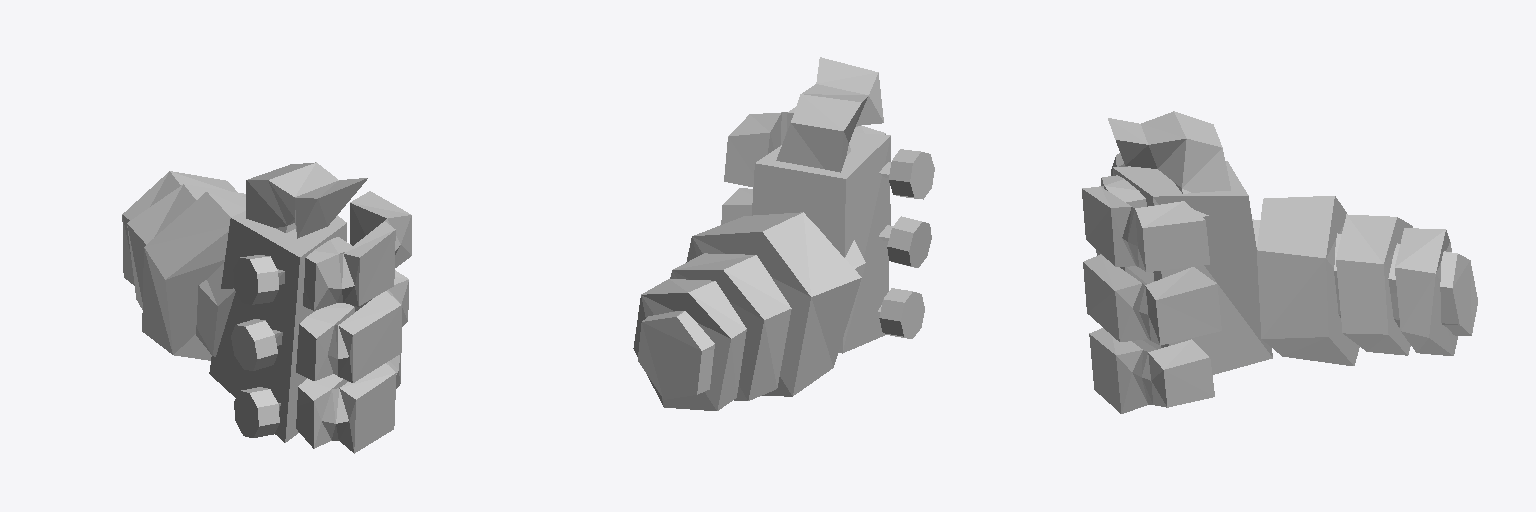
Rendered from hand_r.obj.
The picture shows the model from 3 angles: view 1: azimuth 30°, elevation 25°; view 2: azimuth 150°, elevation 25°; view 3: azimuth 270°, elevation 25°; orthographic projection.
Parts seen in each view (by area): view 1: hand_r:transformblitzcrank_transformblitzcrank; view 2: hand_r:transformblitzcrank_transformblitzcrank; view 3: hand_r:transformblitzcrank_transformblitzcrank.
Boxes of the visible parts, <box> form: hand_r:transformblitzcrank_transformblitzcrank: <box>122,162,411,453</box>; hand_r:transformblitzcrank_transformblitzcrank: <box>633,57,934,410</box>; hand_r:transformblitzcrank_transformblitzcrank: <box>1082,111,1477,413</box>.
Bounding box in the file's own units: 4.77 × 6.47 × 8.86.